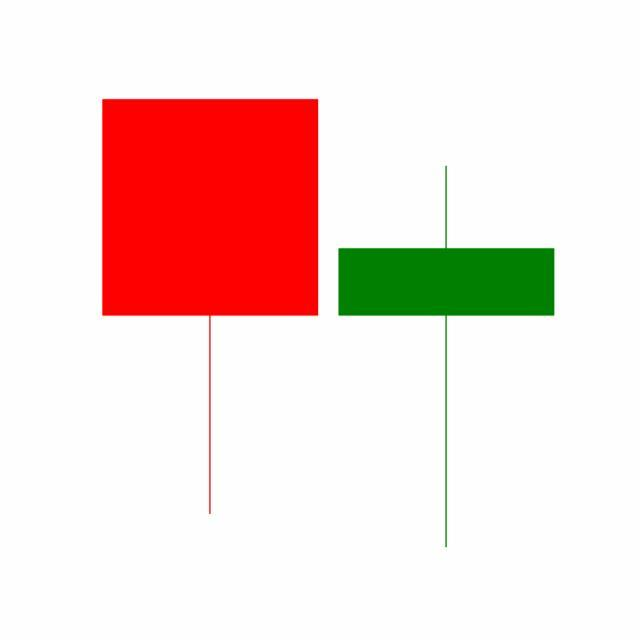Spinning Top: (328, 162, 566, 553)
